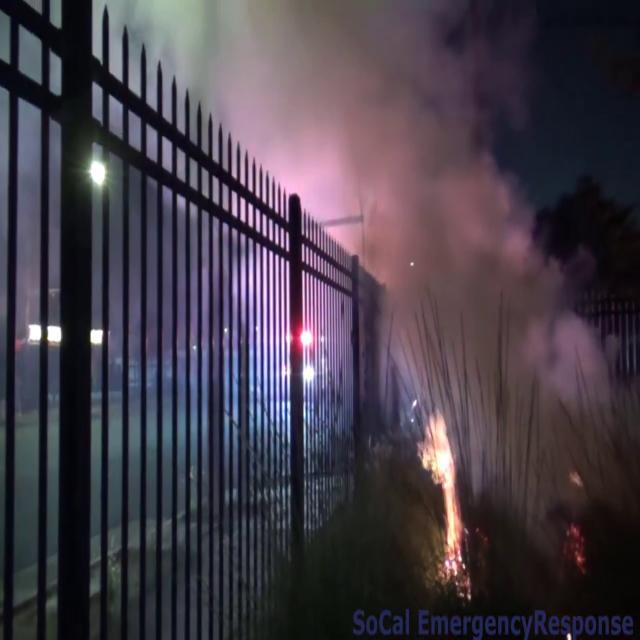Fire: (423, 406, 468, 582)
Smoke: (314, 0, 614, 492)
